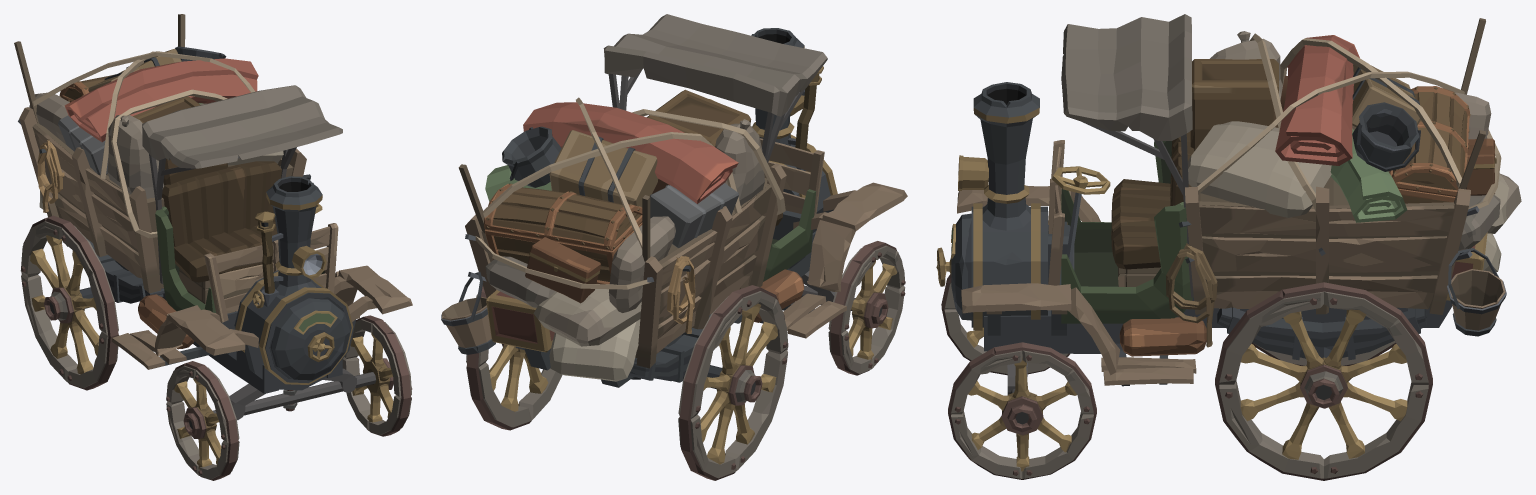
Rendered from Veh_Steam_Car_01.glb.
3 views of the same model, side by side, from view 1: azimuth 30°, elevation 25°; view 2: azimuth 150°, elevation 25°; view 3: azimuth 270°, elevation 25° (orthographic). The views are drawn at different scales.
Visible parts, largest first — view 1: SM_Veh_Steam_Car_01, SM_Veh_Steam_Car_01_Wheel_Rear_02, SM_Veh_Steam_Car_01_Wheel_Front_02, SM_Veh_Steam_Car_01_Wheel_Front_01; view 2: SM_Veh_Steam_Car_01, SM_Veh_Steam_Car_01_Wheel_Rear_02, SM_Veh_Steam_Car_01_Wheel_Front_02, SM_Veh_Steam_Car_01_Wheel_Rear_01; view 3: SM_Veh_Steam_Car_01, SM_Veh_Steam_Car_01_Wheel_Rear_01, SM_Veh_Steam_Car_01_Wheel_Front_01, SM_Veh_Steam_Car_01_Wheel_Front_02, SM_Veh_Steam_Car_01_Wheel_Rear_02.
Boxes of the visible parts, x1,y1,x2,y2 form: SM_Veh_Steam_Car_01: (14,14,412,420); SM_Veh_Steam_Car_01_Wheel_Rear_02: (20,215,119,390); SM_Veh_Steam_Car_01_Wheel_Front_02: (166,361,239,480); SM_Veh_Steam_Car_01_Wheel_Front_01: (342,315,412,436); SM_Veh_Steam_Car_01: (441,14,907,388); SM_Veh_Steam_Car_01_Wheel_Rear_02: (678,285,788,480); SM_Veh_Steam_Car_01_Wheel_Front_02: (828,241,905,375); SM_Veh_Steam_Car_01_Wheel_Rear_01: (466,285,562,430); SM_Veh_Steam_Car_01: (936,14,1521,394); SM_Veh_Steam_Car_01_Wheel_Rear_01: (1215,282,1432,480); SM_Veh_Steam_Car_01_Wheel_Front_01: (948,342,1096,479); SM_Veh_Steam_Car_01_Wheel_Front_02: (941,274,1069,375); SM_Veh_Steam_Car_01_Wheel_Rear_02: (1251,341,1396,365).
Size of the model in its own units: 2.3 by 2.9 by 4.14.
8 materials, 8 textured.
